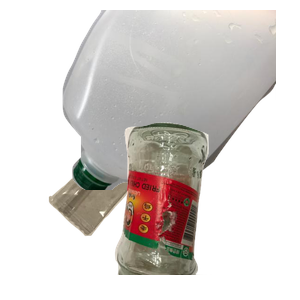glass: (112, 120, 300, 300)
metal: (78, 37, 243, 163)
plastic: (60, 10, 300, 190)
trash: (46, 144, 188, 300)
